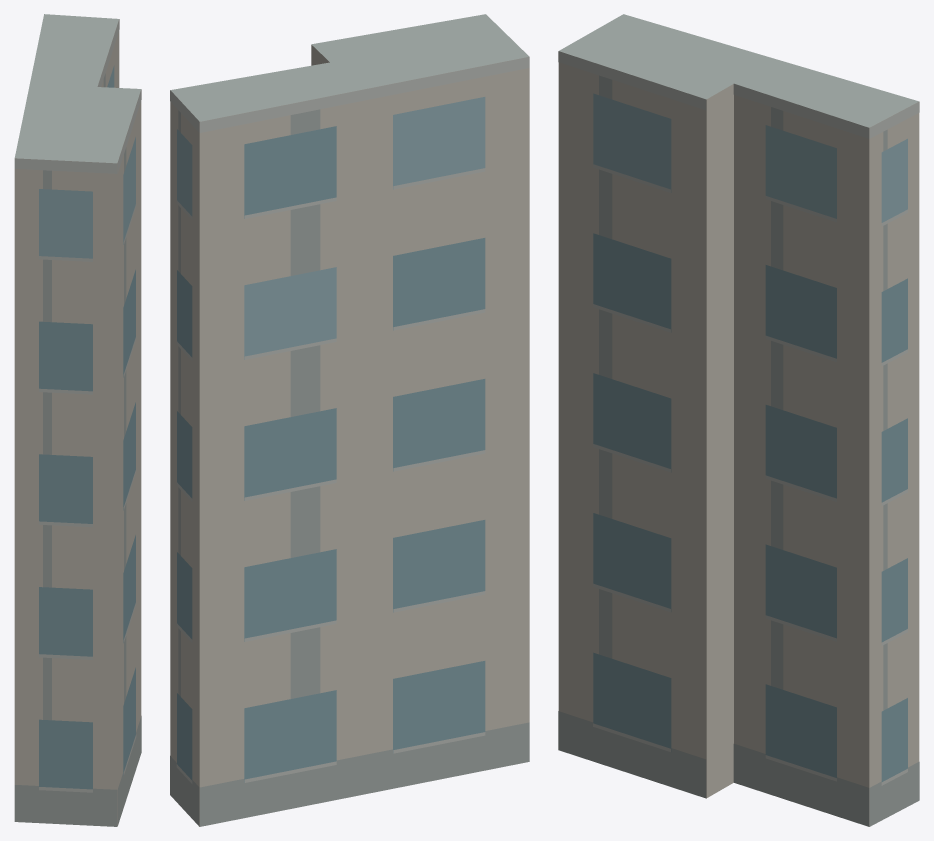
The model's file is survey-upis-32708644.glb.
The picture shows the model from 3 angles, left to right: view 1: azimuth 30°, elevation 25°; view 2: azimuth 150°, elevation 25°; view 3: azimuth 270°, elevation 25°; orthographic projection. The views are drawn at different scales.
Visible parts, largest first — view 1: survey-upis-32708644.tmp; view 2: survey-upis-32708644.tmp; view 3: survey-upis-32708644.tmp.
Boxes of the visible parts, box(x1,y1,x2,y2) form: survey-upis-32708644.tmp: box(14, 14, 141, 826); survey-upis-32708644.tmp: box(170, 14, 529, 826); survey-upis-32708644.tmp: box(558, 14, 919, 826).
Bounding box in the file's own units: 5.33 × 15.25 × 7.14.
